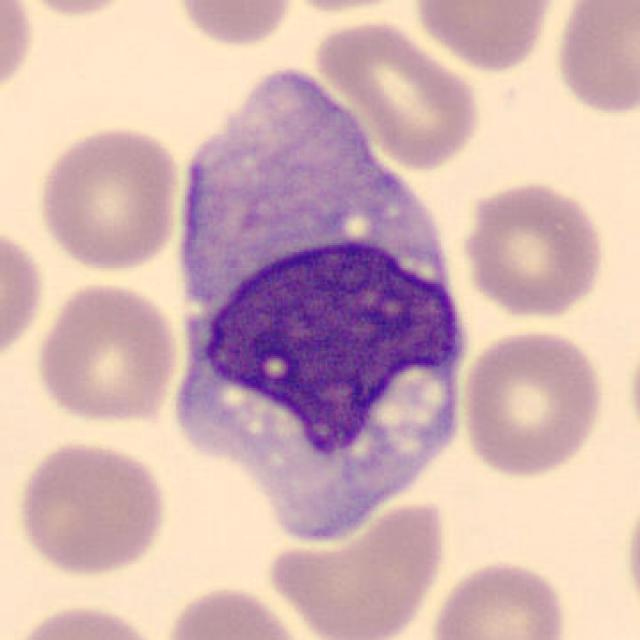Monocyte: (156, 39, 474, 554)
RBC: (310, 16, 486, 173), (265, 492, 451, 640), (457, 326, 608, 480), (34, 122, 185, 273), (32, 276, 183, 426), (12, 436, 170, 578), (457, 178, 610, 321), (427, 555, 572, 640), (409, 0, 560, 74), (549, 0, 640, 120), (160, 582, 311, 640), (0, 220, 48, 370), (7, 599, 169, 640), (170, 0, 298, 49), (0, 0, 37, 109), (620, 478, 640, 626), (7, 0, 147, 19), (269, 0, 423, 16), (626, 321, 640, 462)
